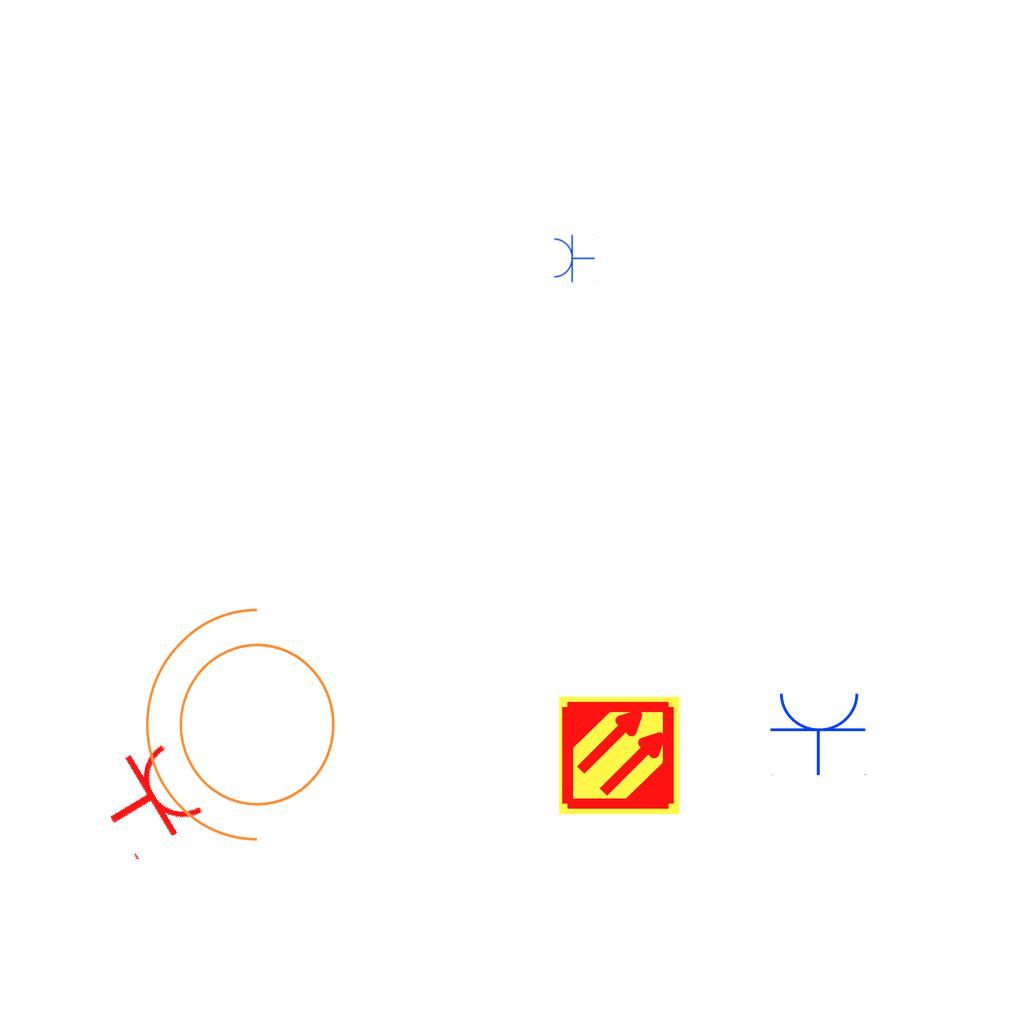ASR_Ansaugrauchmelder: (557, 693, 682, 818)
Scheinwerfer_fuer_Alarmbeleuchtung: (135, 599, 360, 863)
Schukosteckdose_einfach: (85, 734, 212, 866), (769, 689, 869, 776), (552, 233, 595, 283)
